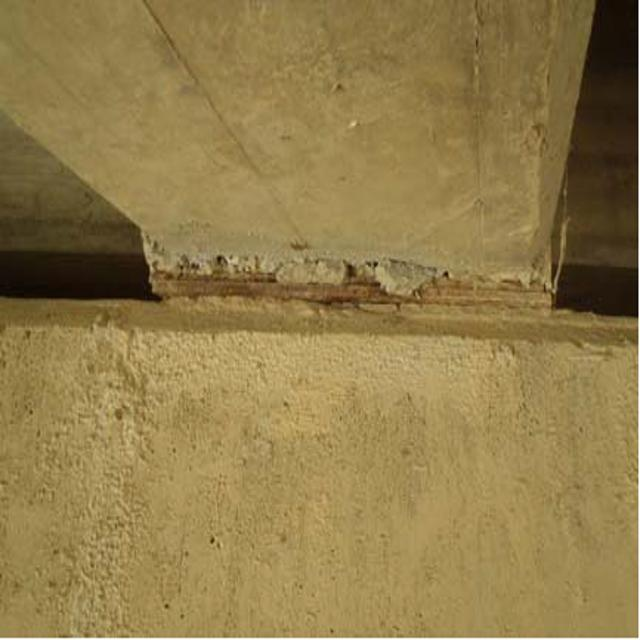spalling: (130, 226, 570, 337)
